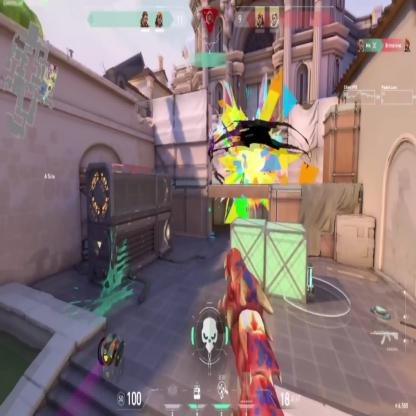enemy: (207, 129, 215, 161)
enemy_head: (209, 129, 212, 136)
